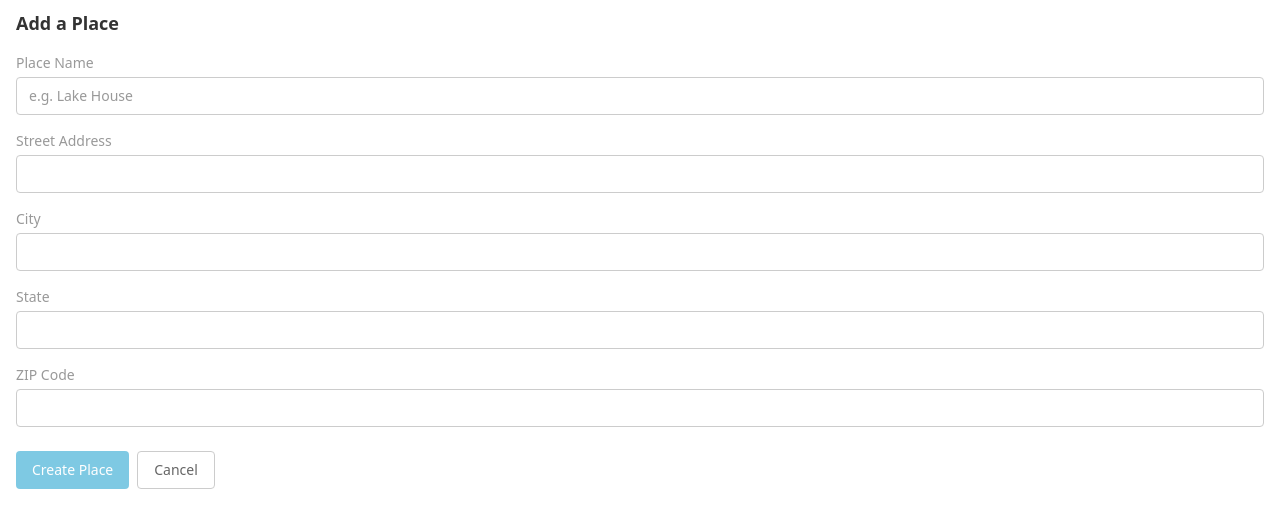
Test: AddPlacePanel – interactions › enables Create Place when name is entered
Type "Beach House" into the field with placeholder "e.g. Lake House".
click(640, 96); type("Beach House")  # box left=16, top=77, right=1264, bottom=115
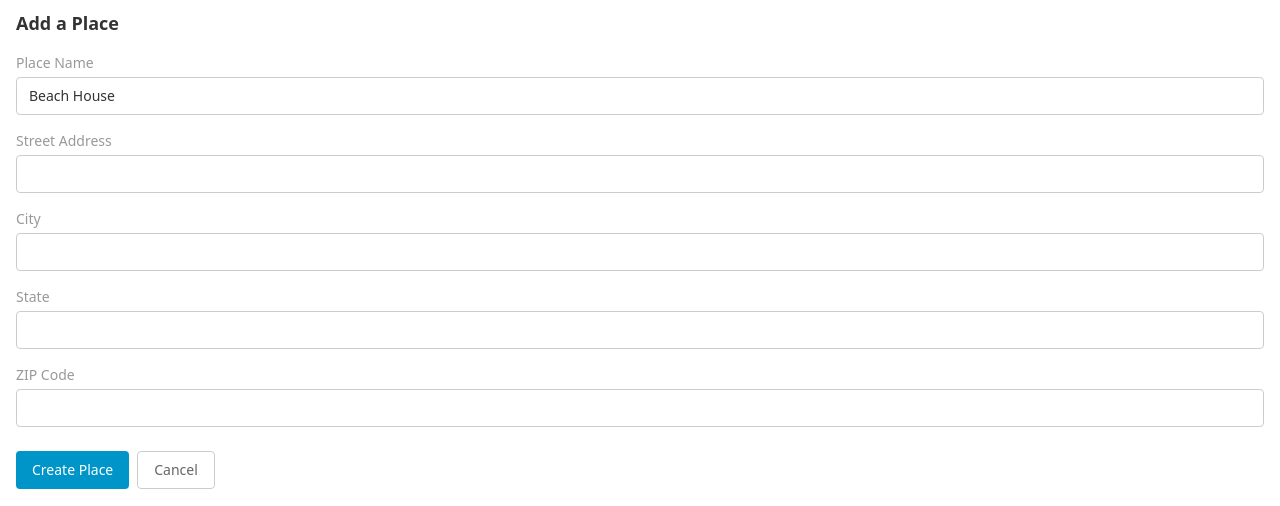
Result: the button "Create Place" is enabled at left=16, top=451, right=129, bottom=489
